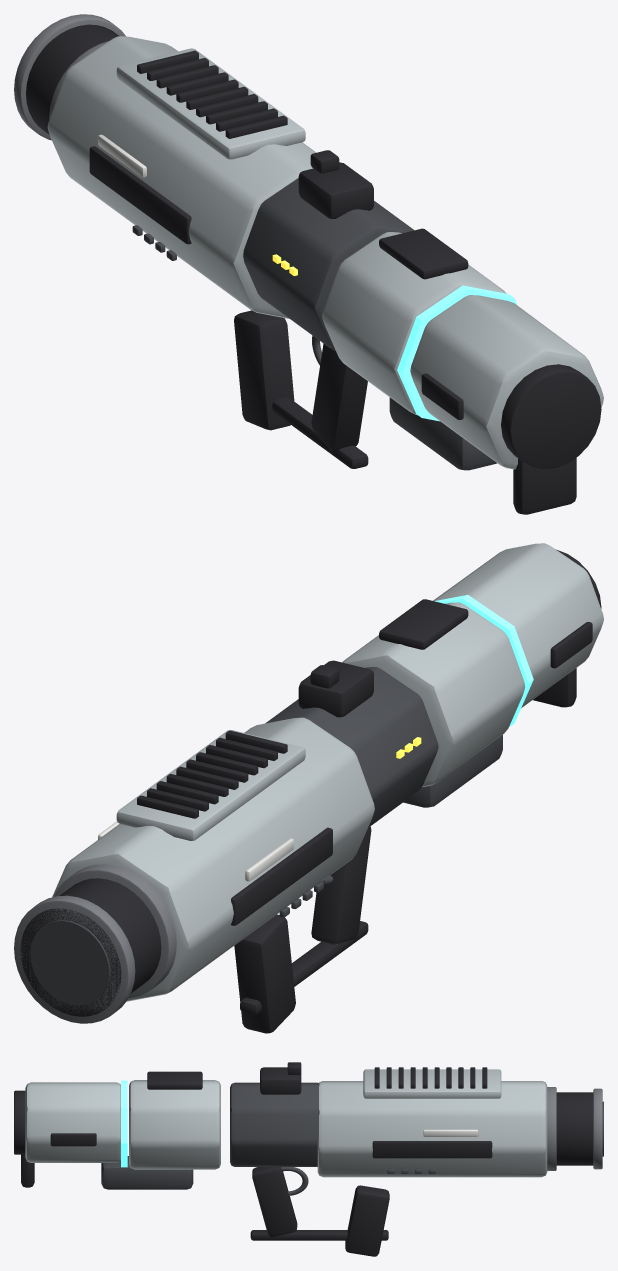
The model's file is skyfall.glb.
3 views of the same model, one above another, from view 1: azimuth 30°, elevation 25°; view 2: azimuth 150°, elevation 25°; view 3: azimuth 270°, elevation 25° (orthographic). The views are drawn at different scales.
Parts seen in each view (by area): view 1: Cylinder, Cylinder.007, Cylinder.006, Cylinder.005, Cylinder.009, Cube.032, Cube, Cube.031, Cylinder.001, Cube.011, Cube.023, Cube.035 (+8 smaller); view 2: Cylinder, Cylinder.006, Cylinder.007, Cylinder.005, Cylinder.001, Cylinder.003, Cylinder.004, Cube.032, Cube, Cube.031, Cylinder.002, Cube.011 (+9 smaller); view 3: Cylinder, Cylinder.006, Cylinder.007, Cylinder.005, Cube, Cylinder.001, Cube.032, Cube.031, Cube.017, Cube.034, Cube.023, Cube.028 (+9 smaller).
Part boxes in pixels (x1,y1,x2,y2): Cylinder: (47, 36, 316, 318); Cylinder.007: (410, 295, 603, 469); Cylinder.006: (322, 232, 506, 415); Cylinder.005: (243, 178, 414, 350); Cylinder.009: (501, 364, 601, 469); Cube.032: (234, 310, 294, 430); Cube: (116, 48, 305, 159); Cube.031: (311, 343, 367, 451); Cylinder.001: (26, 24, 119, 134); Cube.011: (89, 146, 191, 244); Cube.023: (298, 162, 373, 218); Cube.035: (513, 457, 576, 514); Cylinder: (52, 717, 374, 1001); Cylinder.006: (342, 602, 524, 787); Cylinder.007: (433, 543, 603, 707); Cylinder.005: (265, 667, 438, 827); Cylinder.001: (20, 878, 161, 1016); Cylinder.003: (14, 895, 135, 1023); Cylinder.004: (30, 920, 110, 1005); Cube.032: (234, 914, 295, 1033); Cube: (116, 730, 305, 840); Cube.031: (311, 826, 371, 944); Cylinder.002: (54, 864, 176, 998); Cube.011: (231, 827, 332, 925); Cylinder: (317, 1081, 547, 1177); Cylinder.006: (129, 1080, 220, 1169); Cylinder.007: (25, 1082, 120, 1162); Cylinder.005: (230, 1082, 318, 1166); Cube: (363, 1069, 501, 1098); Cylinder.001: (556, 1092, 593, 1165); Cube.032: (345, 1185, 389, 1256); Cube.031: (252, 1167, 297, 1237); Cube.017: (372, 1141, 492, 1158); Cube.034: (101, 1156, 193, 1189); Cube.023: (260, 1067, 301, 1094); Cube.028: (147, 1071, 202, 1089).
Size of the model in its own units: 0.232 by 0.4546 by 1.28.
